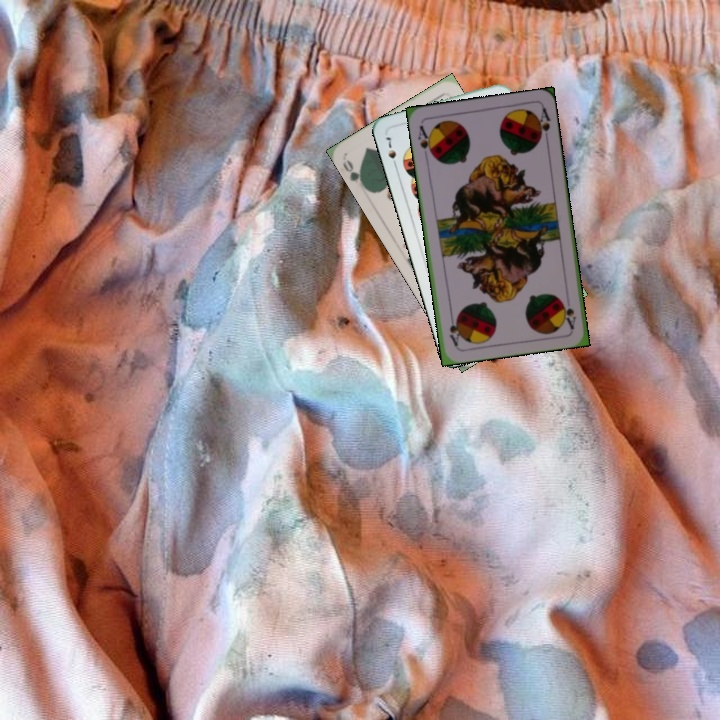GO: (338, 155, 368, 191)
S7: (381, 133, 400, 171)
SA: (414, 121, 436, 160), (558, 297, 579, 331)
